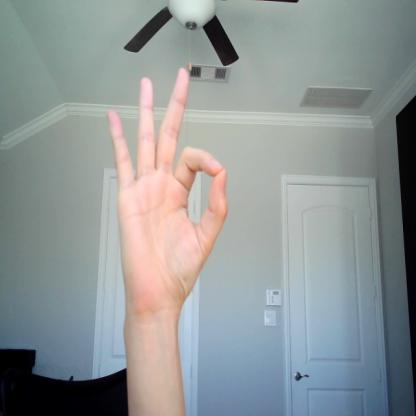F: (106, 66, 231, 298)
